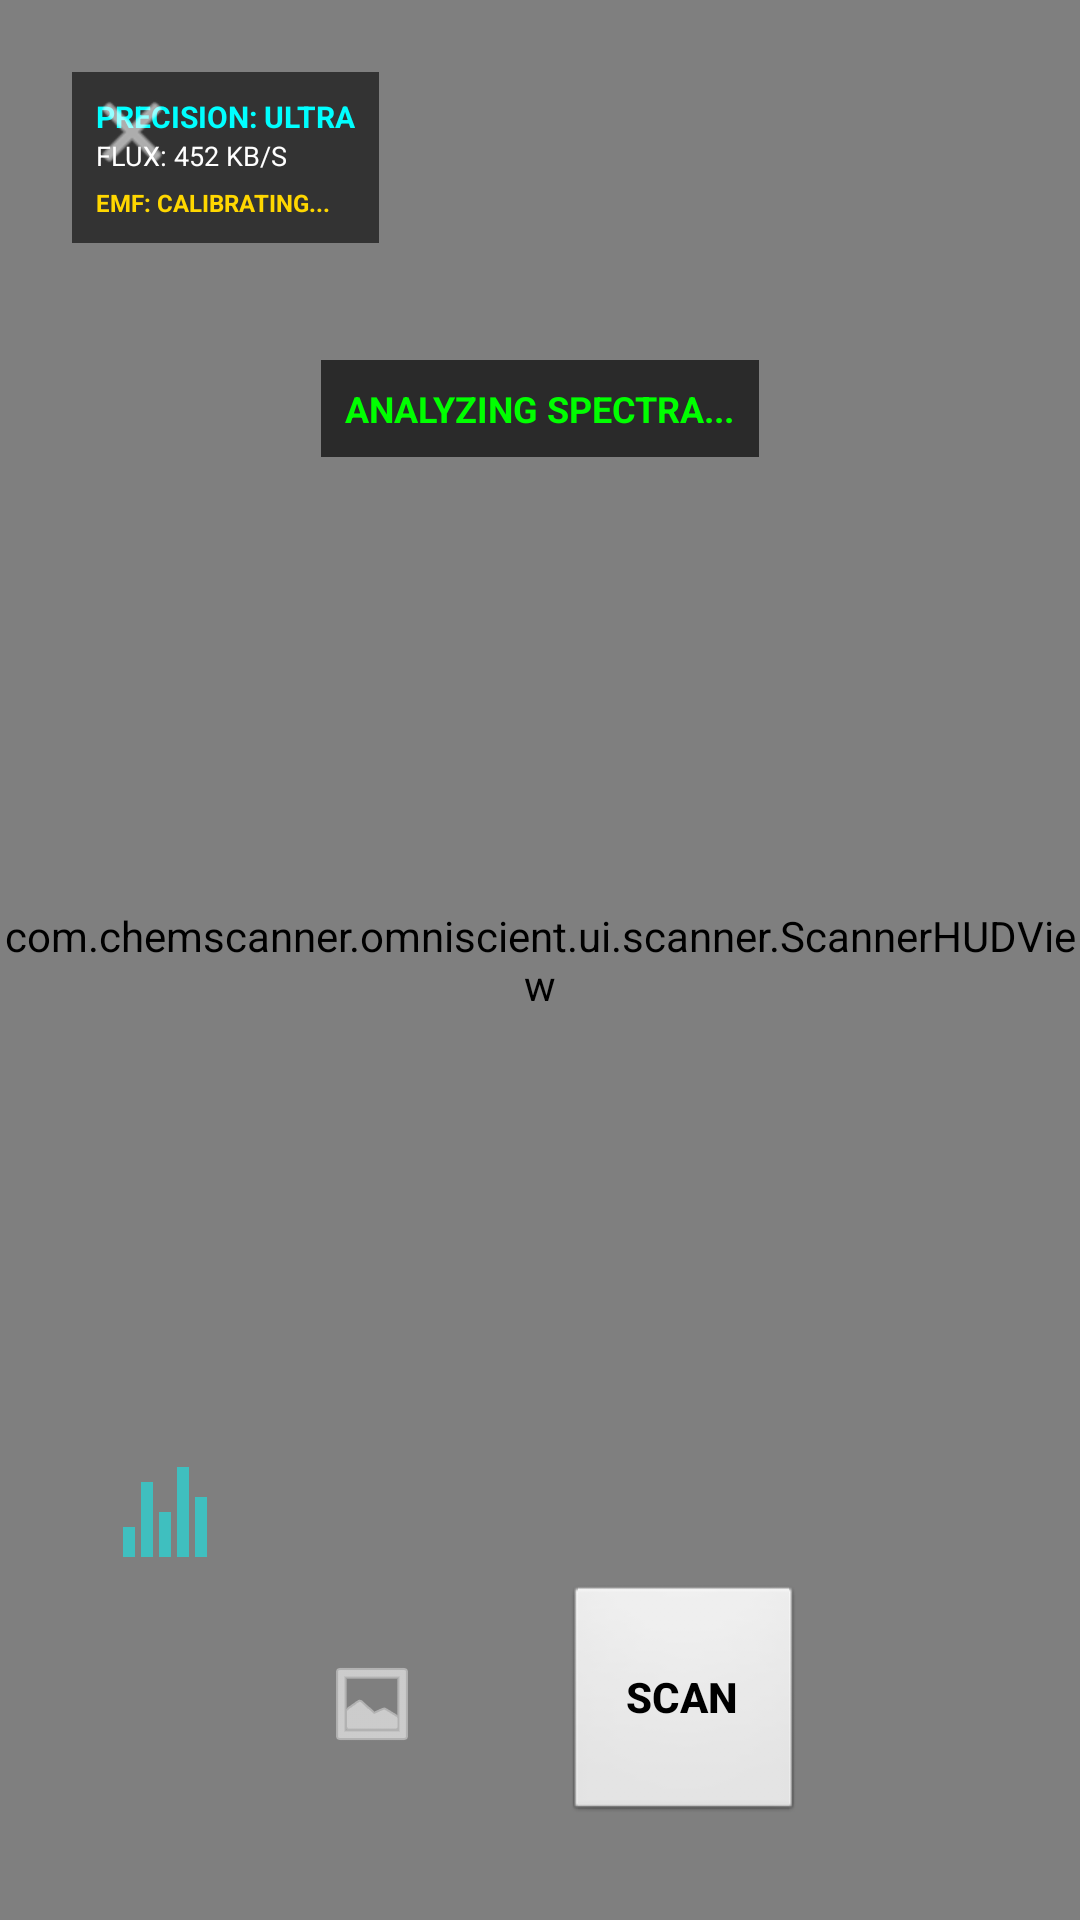

Named icons in this screenshot (1080*1920) and their centers, point (x, y):
gallery: point (372, 1704)
